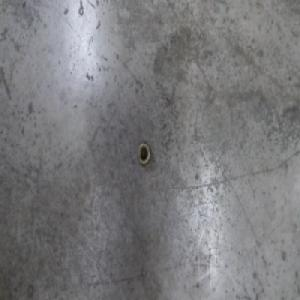Nut: (137, 141, 151, 168)
